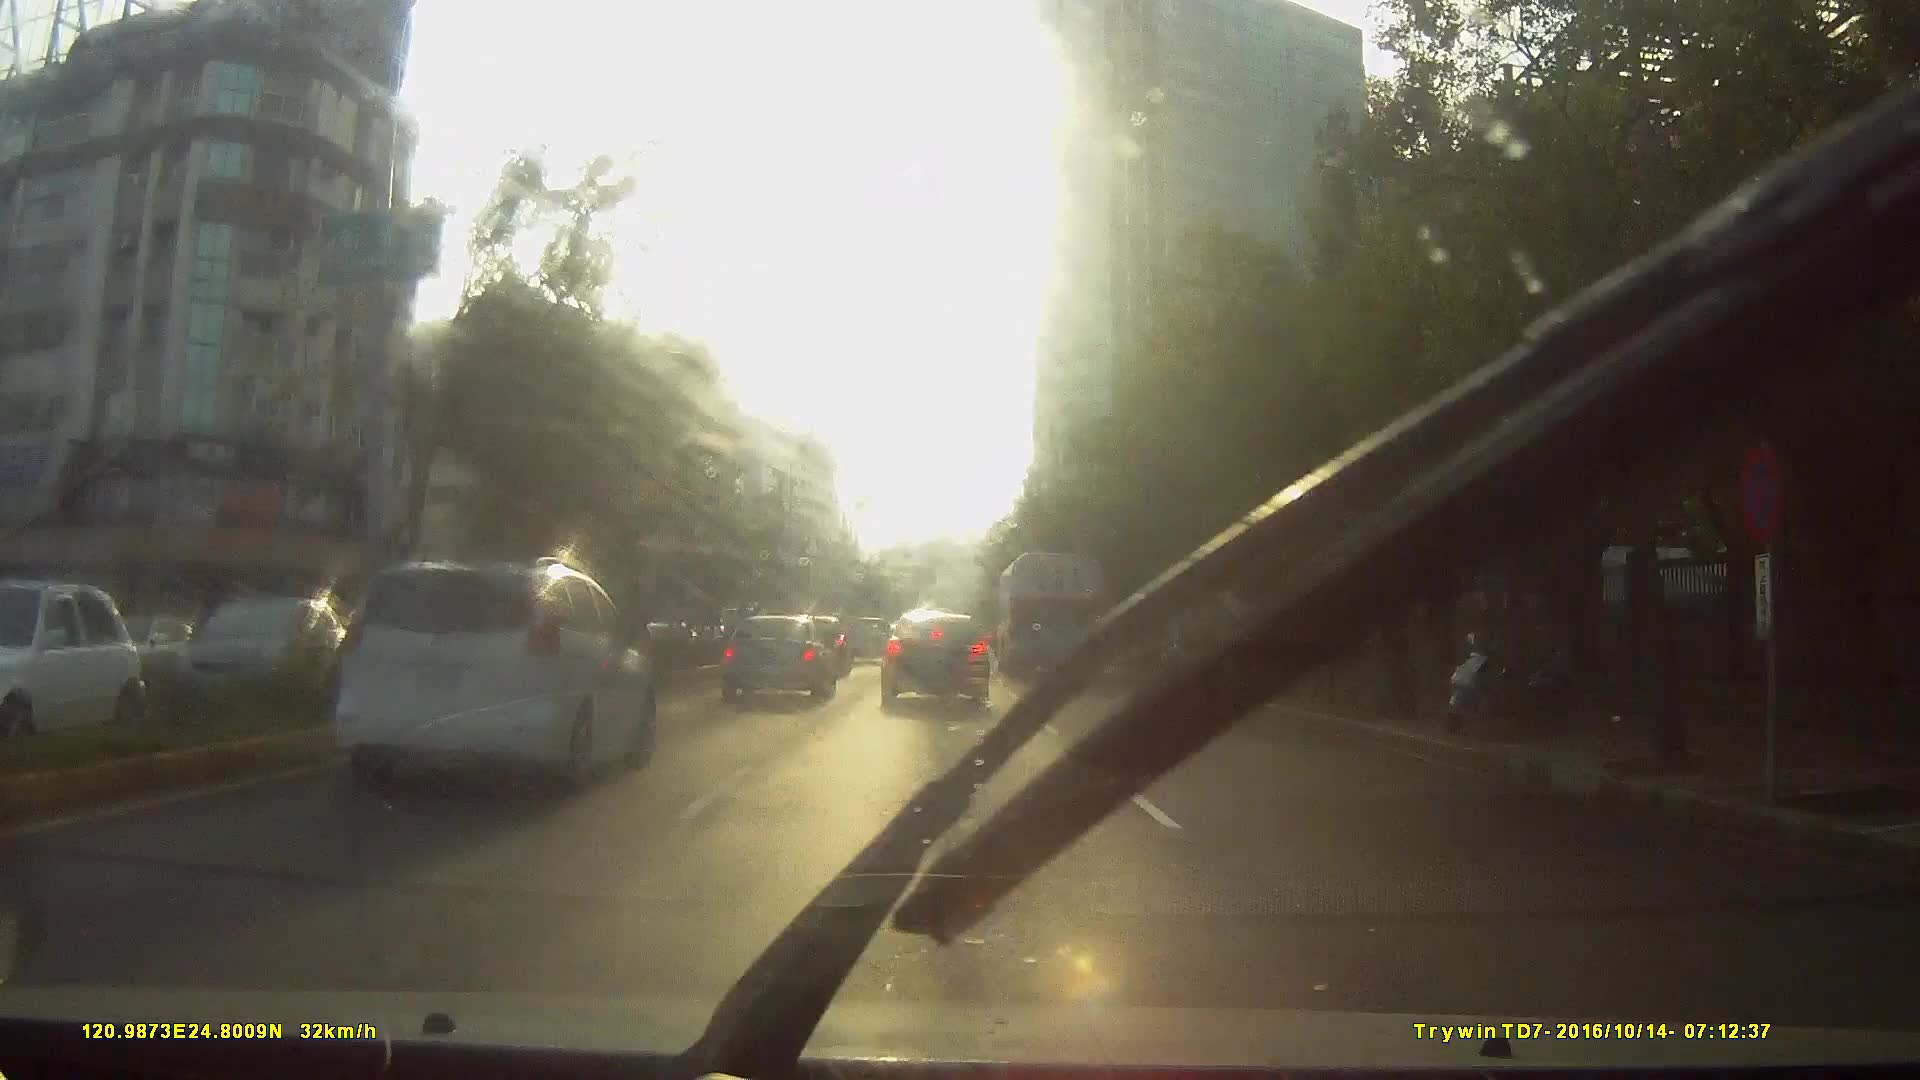vehicle: (251, 556, 684, 868), (326, 553, 655, 795), (1, 582, 175, 764), (171, 597, 357, 719), (1000, 549, 1110, 680), (877, 605, 992, 709), (717, 608, 837, 702), (845, 616, 893, 665)
